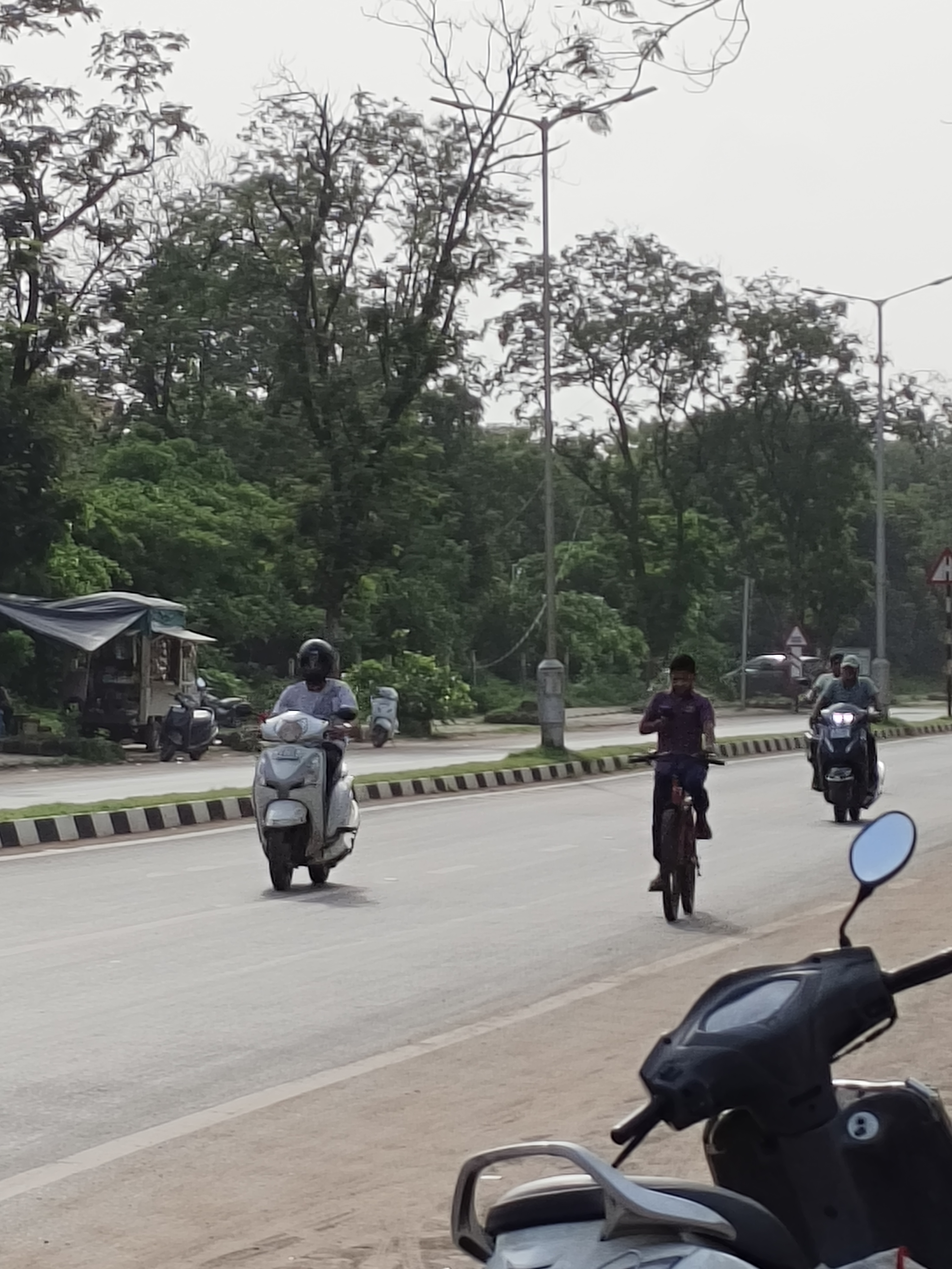BikeWithRider: (237, 630, 368, 897), (799, 647, 895, 831), (362, 676, 405, 753)
Helmet: (290, 633, 343, 690)
NoHelmet: (665, 651, 702, 696), (837, 652, 866, 686), (824, 649, 847, 682)
